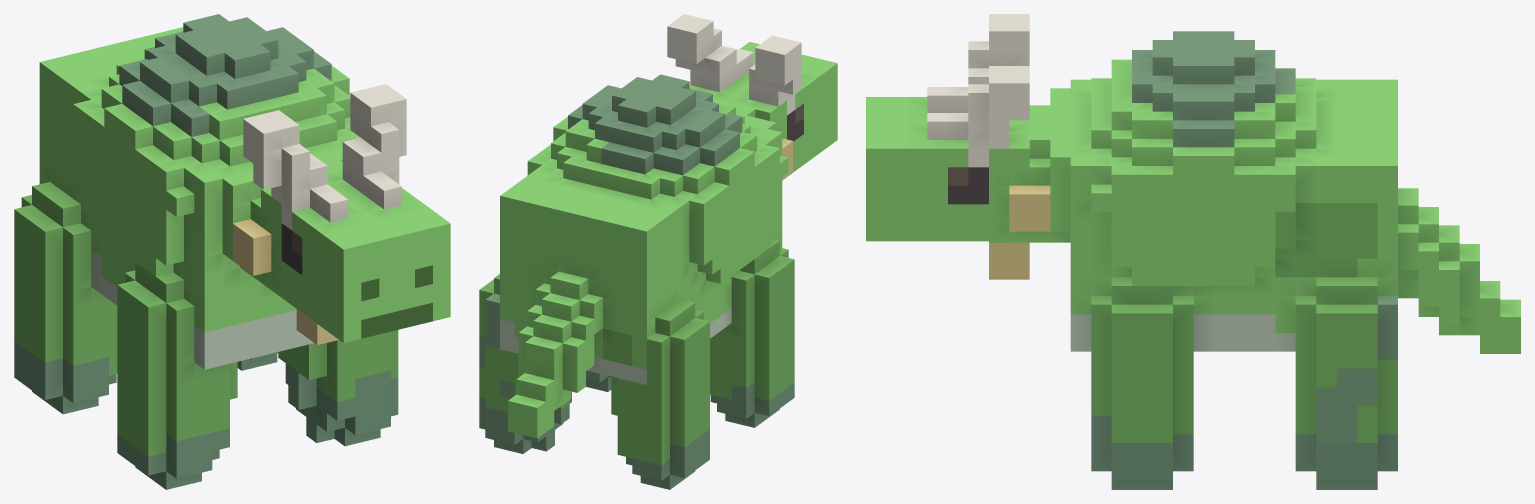
File: bovine-42-juvenile.glb
3 renders of one model, left to right at view 1: azimuth 30°, elevation 25°; view 2: azimuth 150°, elevation 25°; view 3: azimuth 270°, elevation 25°, orthographic. The views are drawn at different scales.
Parts seen in each view (by area): view 1: body, head, legFL, legBL, legFR, hornLeft, hornRight, collar, eyeLeft, hornBudRight, hornBudLeft, neck; view 2: body, legBL, legFL, tail, legBR, head, hornRight, hornLeft, eyeLeft, legFR; view 3: body, legBR, legFR, head, tail, hornRight, hornLeft, collar, neck, eyeRight.
Boxes of the visible parts, <box> form: body: <box>39,14,360,369</box>; head: <box>261,169,450,342</box>; legFL: <box>117,262,237,489</box>; legBL: <box>14,182,117,414</box>; legFR: <box>278,330,398,446</box>; hornLeft: <box>243,110,337,230</box>; hornRight: <box>342,84,406,201</box>; collar: <box>233,219,338,344</box>; eyeLeft: <box>281,223,302,274</box>; hornBudRight: <box>373,179,401,209</box>; hornBudLeft: <box>320,192,348,222</box>; neck: <box>250,160,342,282</box>; body: <box>500,74,788,384</box>; legBL: <box>611,299,709,489</box>; legFL: <box>710,238,794,427</box>; tail: <box>508,271,602,438</box>; legBR: <box>479,274,571,453</box>; head: <box>689,42,837,180</box>; hornRight: <box>667,14,744,92</box>; hornLeft: <box>749,35,801,115</box>; eyeLeft: <box>787,103,803,141</box>; legFR: <box>586,370,611,391</box>; body: <box>1050,31,1397,351</box>; legBR: <box>1295,277,1397,489</box>; legFR: <box>1091,277,1193,489</box>; head: <box>866,97,1029,241</box>; tail: <box>1398,188,1520,353</box>; hornRight: <box>948,66,1029,167</box>; hornLeft: <box>948,14,1029,112</box>; collar: <box>989,185,1050,279</box>; neck: <box>989,105,1050,242</box>; eyeRight: <box>948,167,988,204</box>.
Size of the model in its own units: 0.63 by 0.945 by 1.44.
